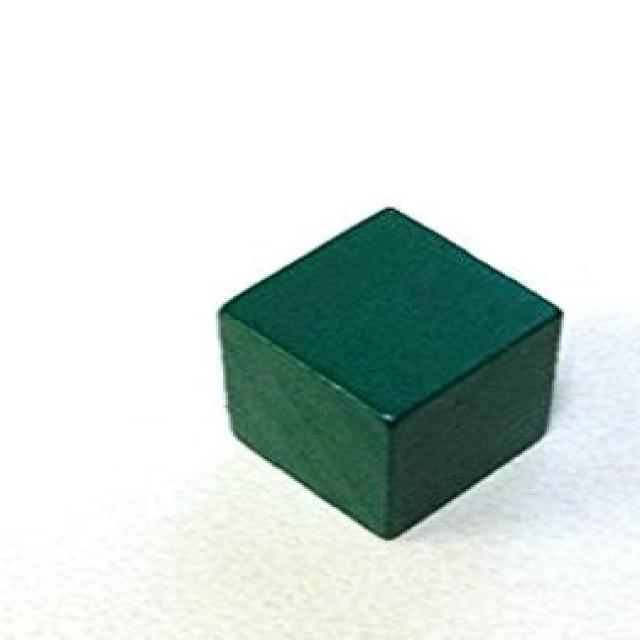green cube: (218, 209, 562, 543)
